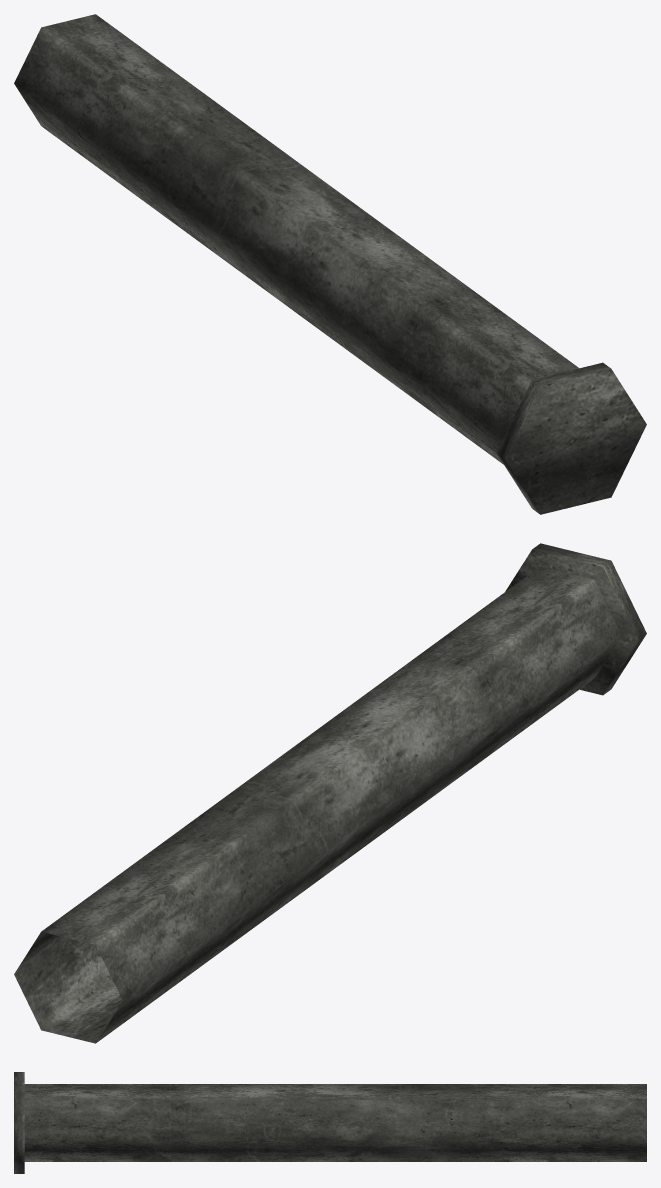
The model's file is large_metal_8.fbx.
3 views of the same model, one above another, from view 1: azimuth 30°, elevation 25°; view 2: azimuth 150°, elevation 25°; view 3: azimuth 270°, elevation 25° (orthographic). The views are drawn at different scales.
Visible parts, largest first — view 1: polySurface524; view 2: polySurface524; view 3: polySurface524.
Boxes of the visible parts, x1,y1,x2,y2 form: polySurface524: (14, 14, 646, 514); polySurface524: (14, 543, 646, 1043); polySurface524: (14, 1072, 646, 1173).
Bounding box in the file's own units: 1.3 × 1.13 × 8.07.
